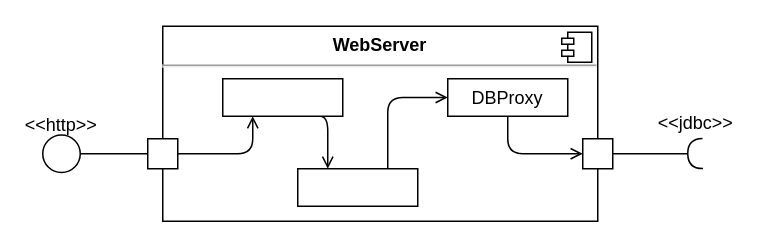
The diagram is 774 pixels wide and 248 high, and some of its shapes have lost their labels. The box of each missing label's shape, as (x1, y1, x2, y2) in pixels:
HttpService: (221, 77, 343, 116)
Servlet: (296, 167, 418, 206)
